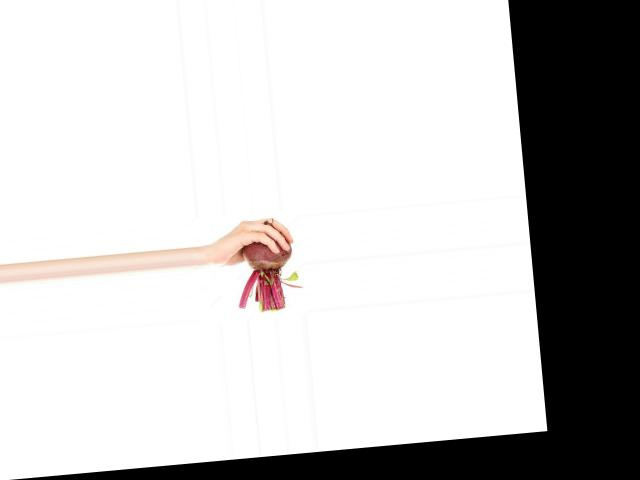beet: (231, 217, 304, 313)
